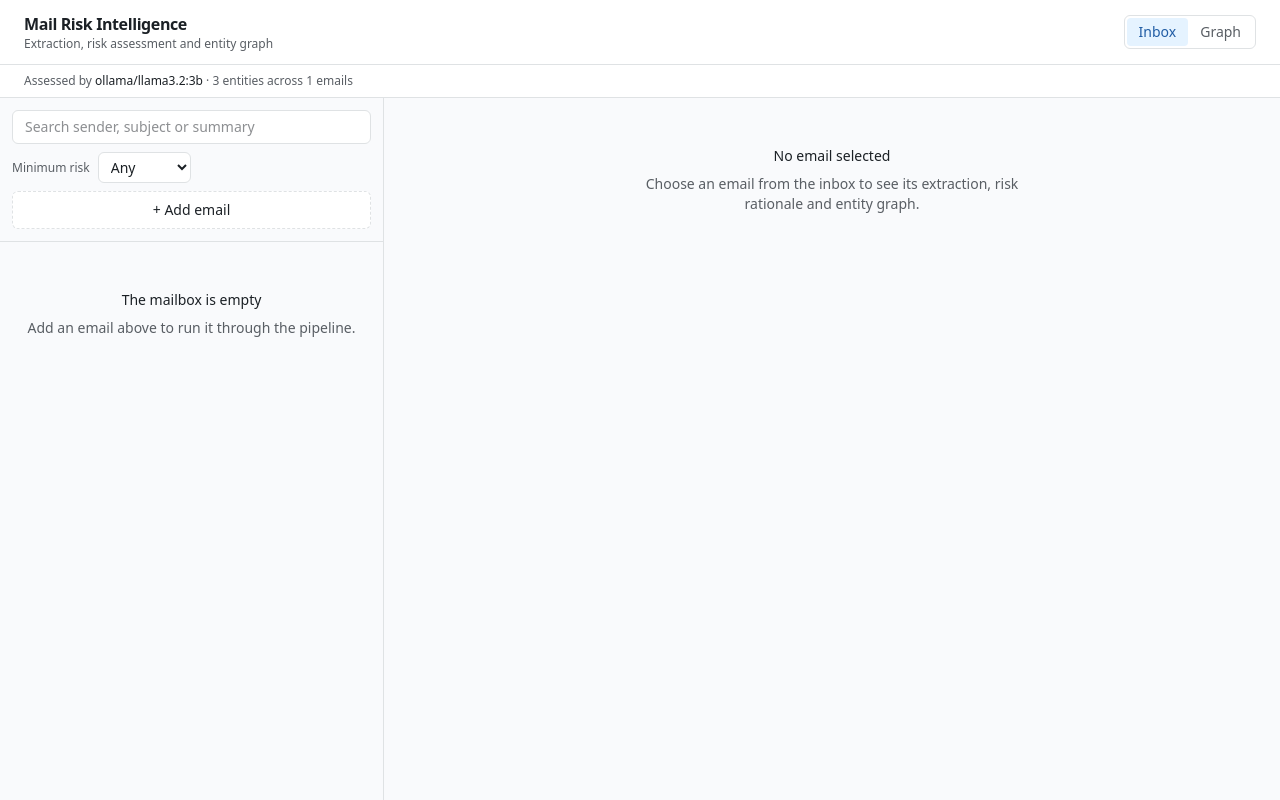
App › distinguishes an empty mailbox from an empty filter result
Check: the text "The mailbox is empty" is shown, box [122,290,261,310]
In the search field named "Search emails": (192, 127) [12,110,371,144], type "zzz"
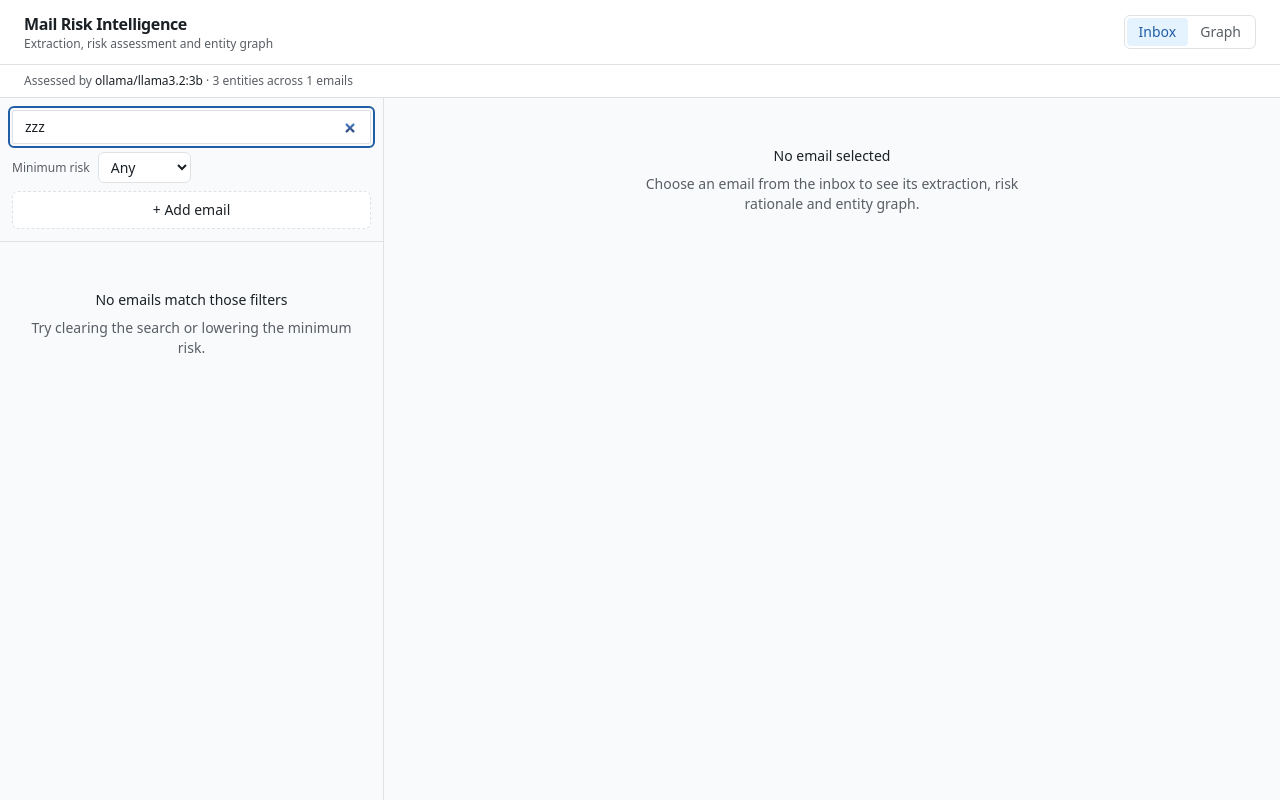
Check: the text "No emails match those filters" is shown, box [96,290,288,310]
